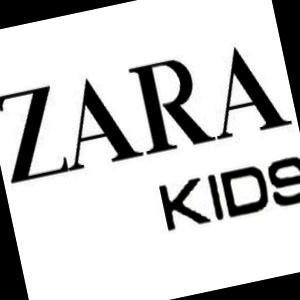zara: (292, 15, 296, 46)
